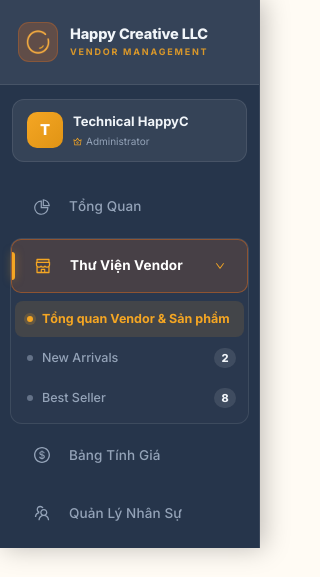
Scenario: submenu Thư Viện Vendor › mũi tên thu gọn/mở rộng submenu mà không điều hướng
Step 1. Click the button named "Thu gọn Thư Viện Vendor" → x=220, y=266, box [215,260,225,270]
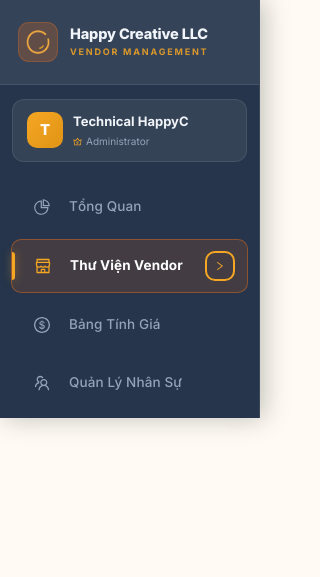
Step 2. Click the button named "Mở rộng Thư Viện Vendor" → x=220, y=266, box [215,260,225,270]
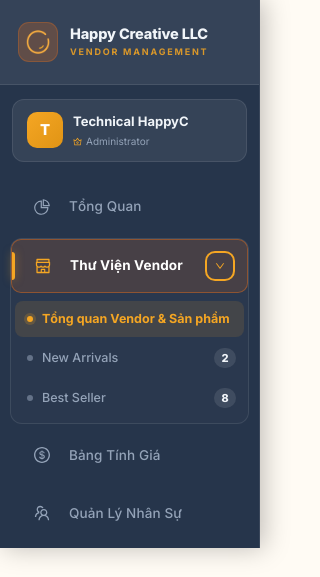
expect the element named "Thư Viện Vendor" is shown: met, box [11,292,248,423]
